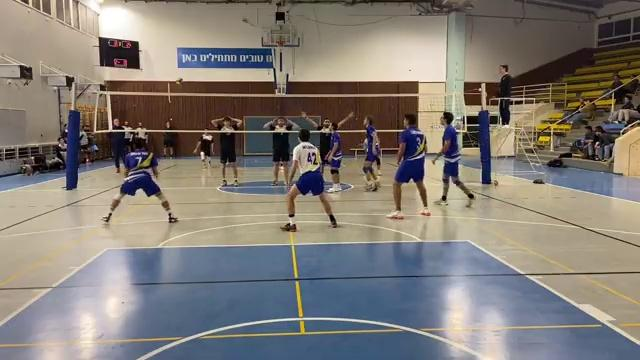ball: (173, 77, 185, 87)
